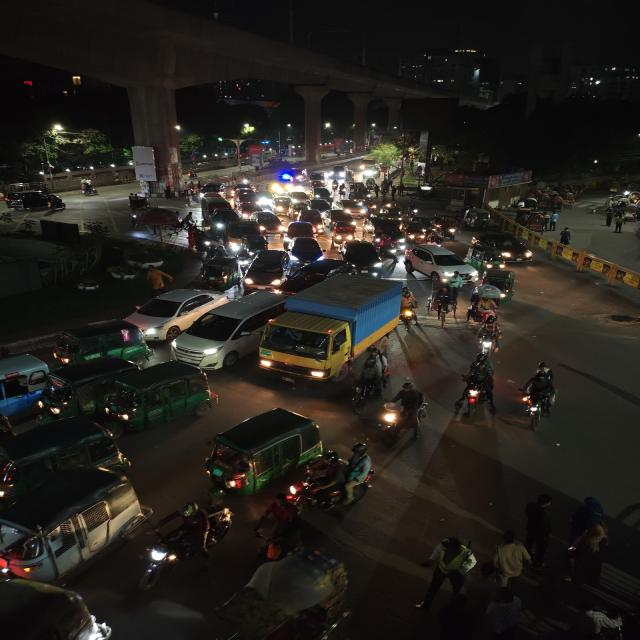car: (166, 288, 283, 369), (121, 288, 220, 338), (403, 243, 476, 285), (280, 259, 353, 295), (469, 230, 535, 264), (243, 250, 291, 290), (289, 236, 326, 266), (4, 186, 44, 213), (254, 211, 285, 235), (284, 220, 319, 240), (208, 208, 234, 234), (296, 210, 326, 232), (198, 182, 228, 198), (338, 202, 364, 220), (272, 197, 292, 216), (233, 190, 256, 205), (287, 167, 308, 183), (309, 187, 332, 201), (290, 192, 311, 205), (328, 165, 344, 180), (305, 172, 326, 182)
cng: (1, 464, 139, 582), (204, 406, 322, 497), (0, 416, 120, 504), (103, 360, 218, 434), (40, 358, 136, 418), (51, 321, 146, 364), (340, 239, 382, 273), (482, 268, 519, 304), (198, 256, 238, 288), (469, 243, 506, 270), (328, 222, 359, 244), (463, 207, 494, 229), (404, 218, 434, 240)
motorcycle: (134, 500, 236, 590), (290, 438, 381, 514), (376, 378, 432, 446), (514, 360, 562, 430), (453, 356, 498, 416), (472, 313, 506, 355), (398, 286, 420, 331), (122, 192, 153, 209), (43, 194, 68, 212), (441, 220, 460, 242), (77, 184, 100, 198), (185, 168, 199, 179), (338, 184, 347, 200)
pedestrian: (415, 532, 478, 608), (563, 494, 611, 576), (486, 527, 534, 593), (520, 494, 557, 574), (480, 590, 528, 640), (140, 263, 175, 292), (559, 226, 574, 247), (614, 214, 627, 233)
pickup_van: (224, 217, 255, 245)
rickshaw: (466, 296, 504, 332), (425, 288, 461, 326)
truck: (256, 275, 401, 384)
